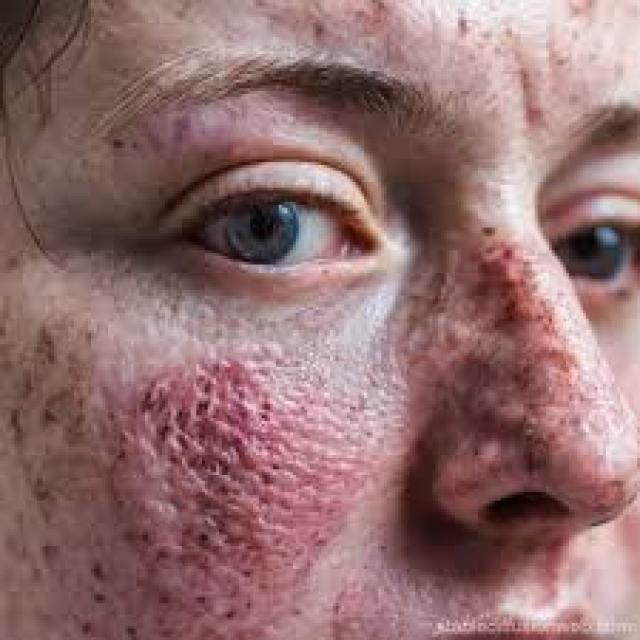Eczema: (104, 355, 326, 635), (442, 250, 564, 430)
